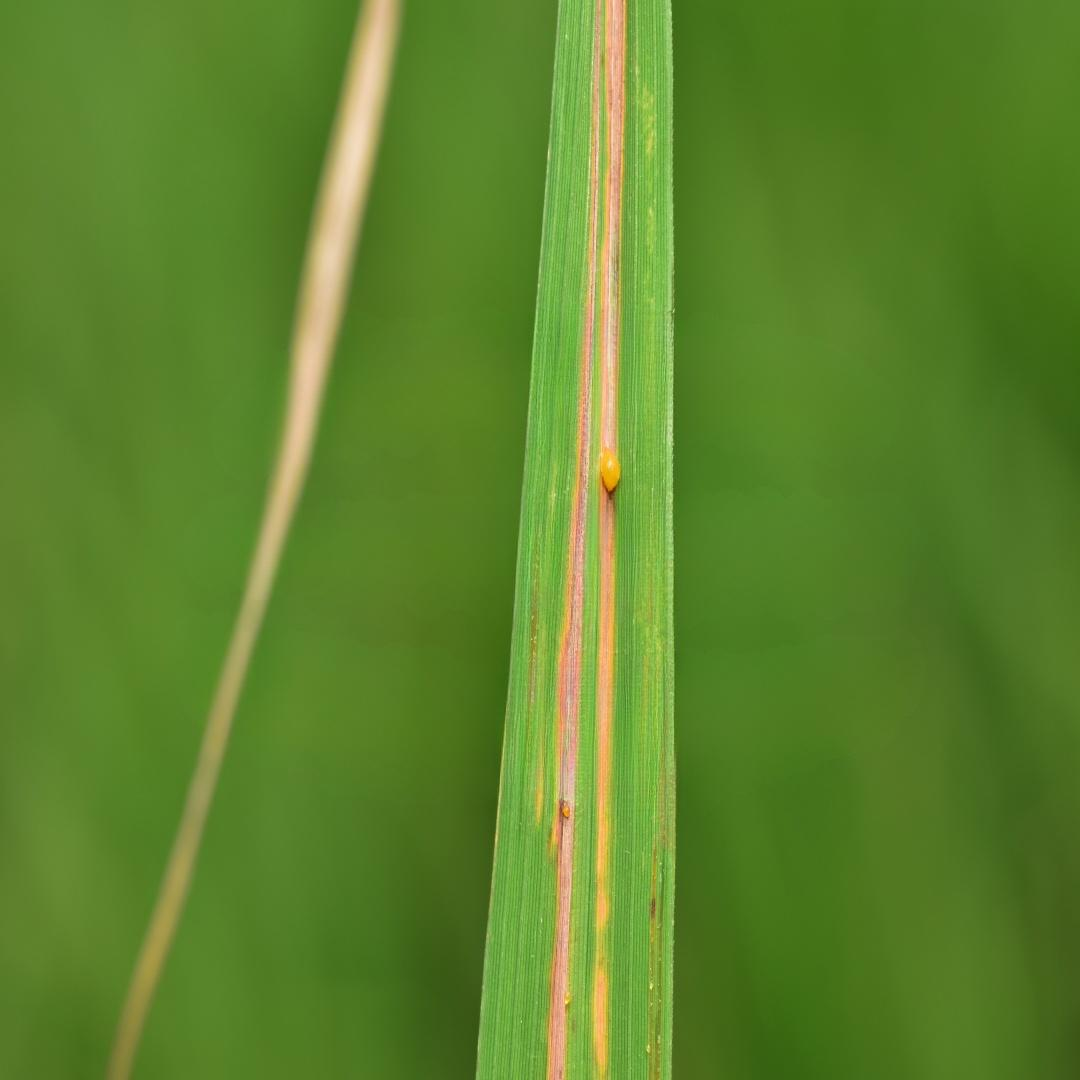BLB: (546, 0, 601, 1079), (592, 1, 627, 1079), (536, 744, 544, 819)
LEAF: (476, 0, 675, 1079)
